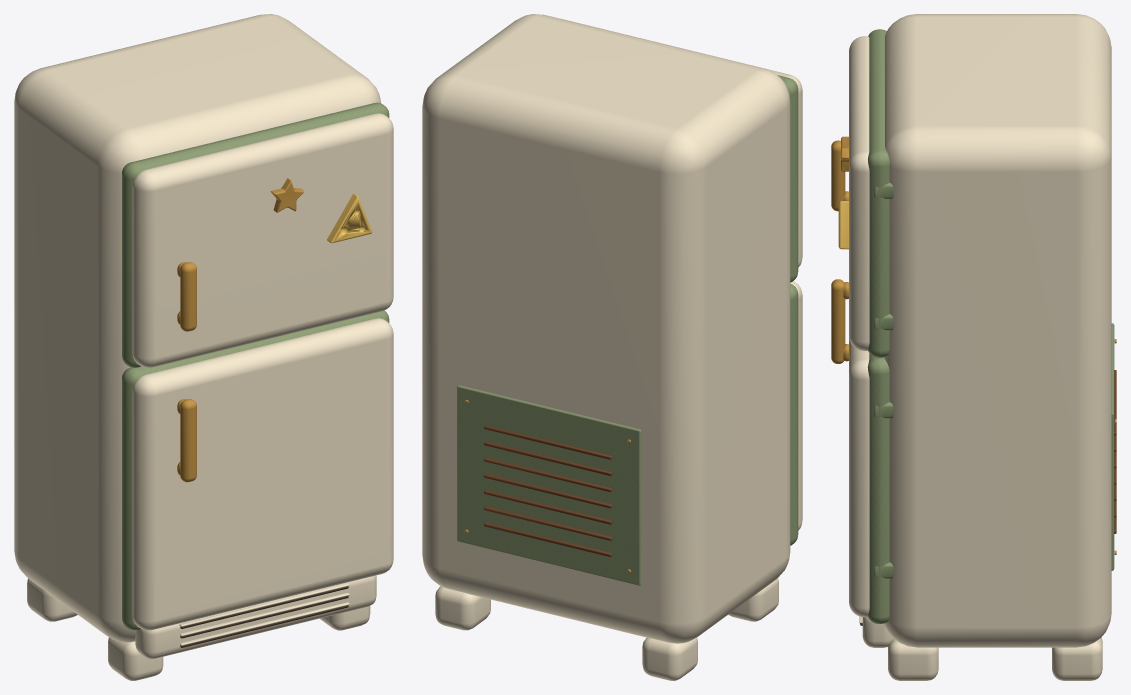
File: Fridge.fbx
3 renders of one model, left to right at view 1: azimuth 30°, elevation 25°; view 2: azimuth 150°, elevation 25°; view 3: azimuth 270°, elevation 25°, orthographic.
Visible parts, largest first — view 1: Fridge; view 2: Fridge; view 3: Fridge.
Part boxes in pixels (x1,y1,x2,y2): Fridge: [14, 14, 393, 680]; Fridge: [422, 14, 802, 680]; Fridge: [831, 14, 1116, 680].
Size of the model in its own units: 74 by 138 by 64.65.
1 material, 1 textured.
